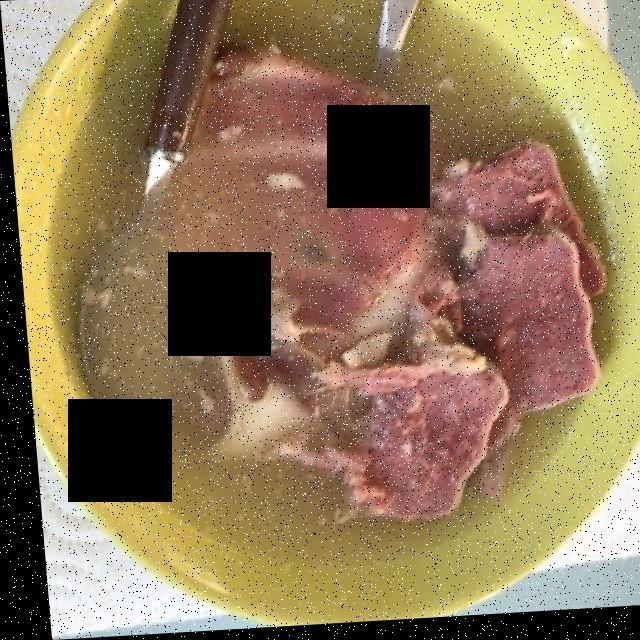pork: (134, 32, 441, 466)
